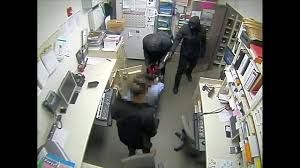gun: (159, 48, 175, 64)
